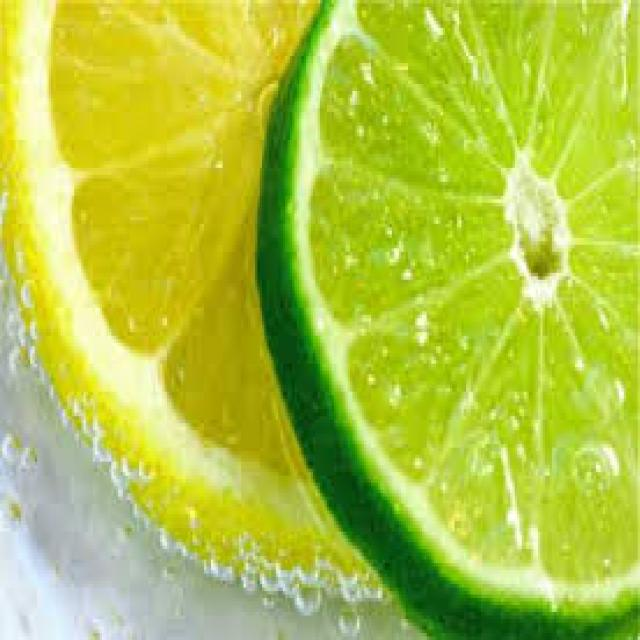organic waste: (252, 0, 638, 637), (0, 0, 392, 598)
